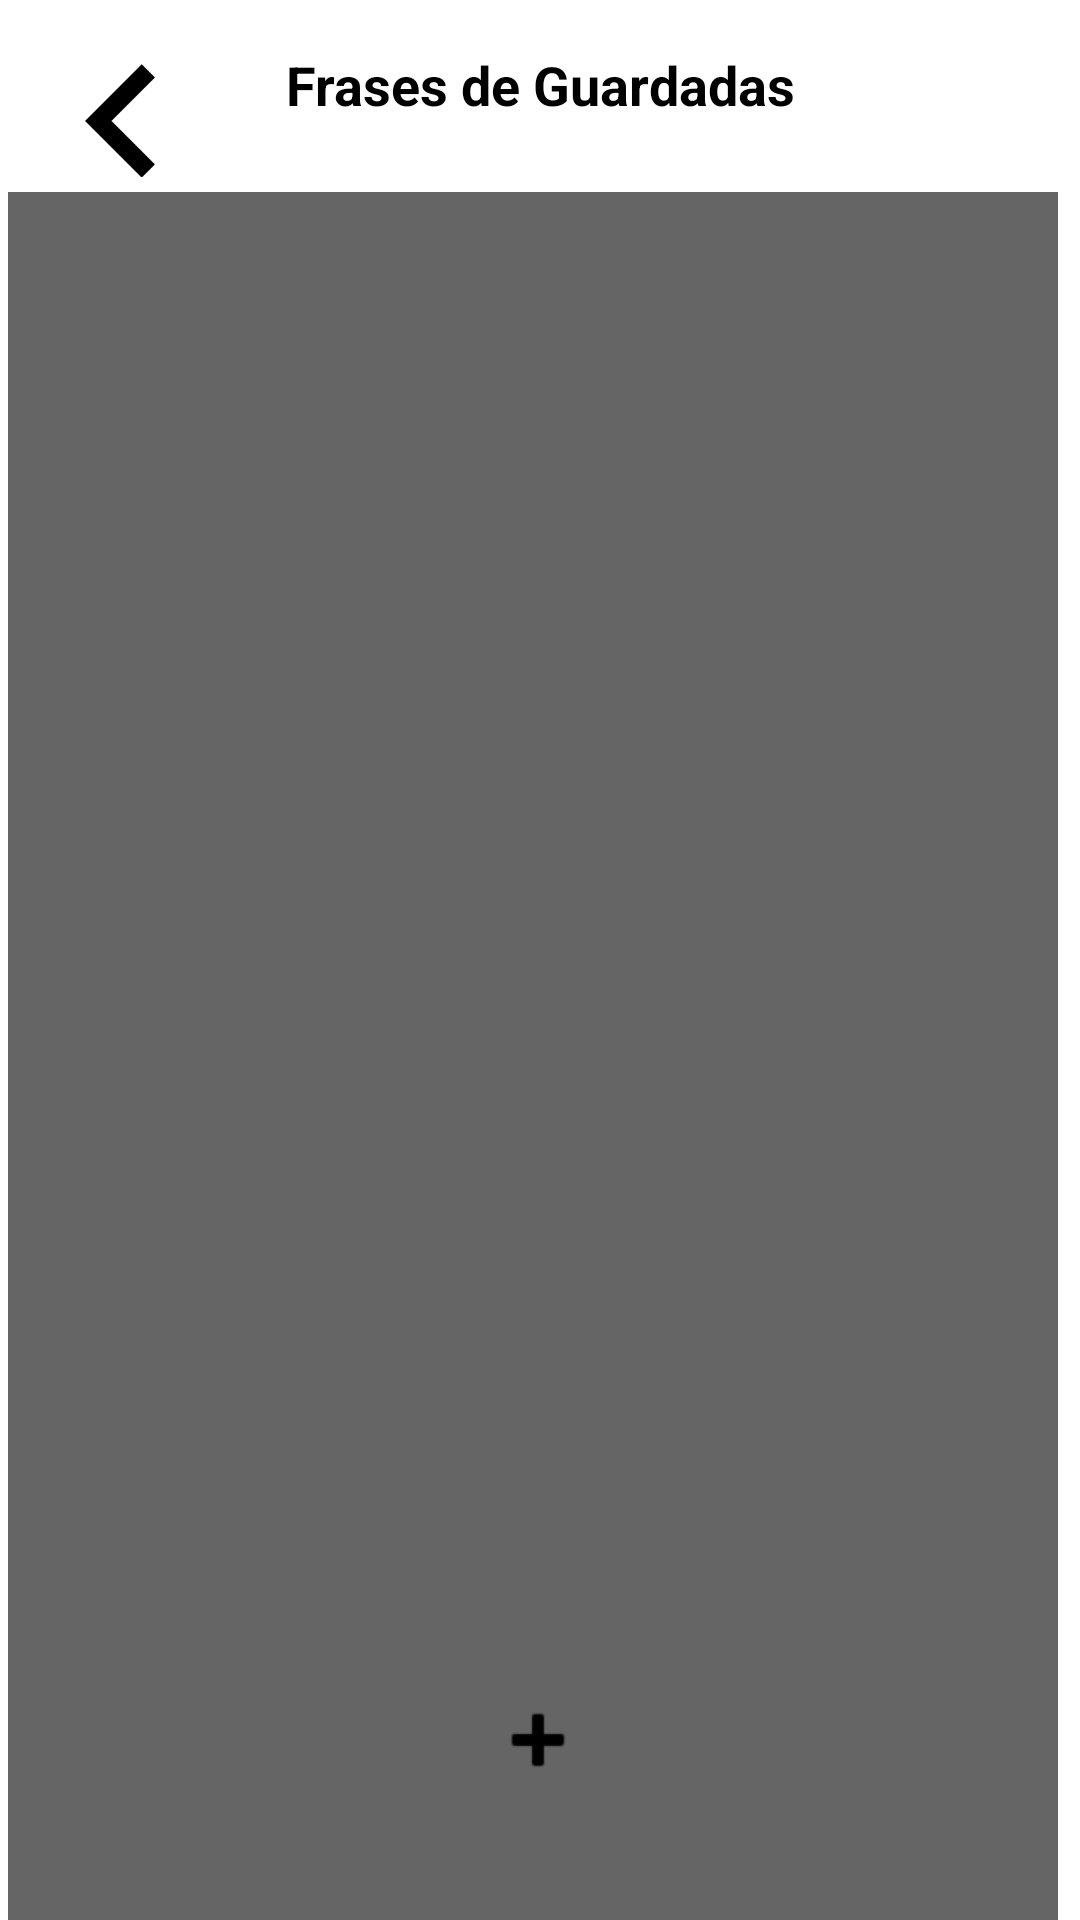

Locate icon controls on the screen. Image size 1080px x 1920px, boxes as (x1, y1, x2, y2).
add: (511, 1713, 565, 1767)
retroceder: (85, 64, 155, 177)
